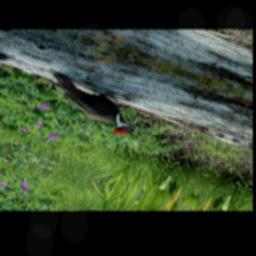Woodpecker: (29, 70, 159, 142)
